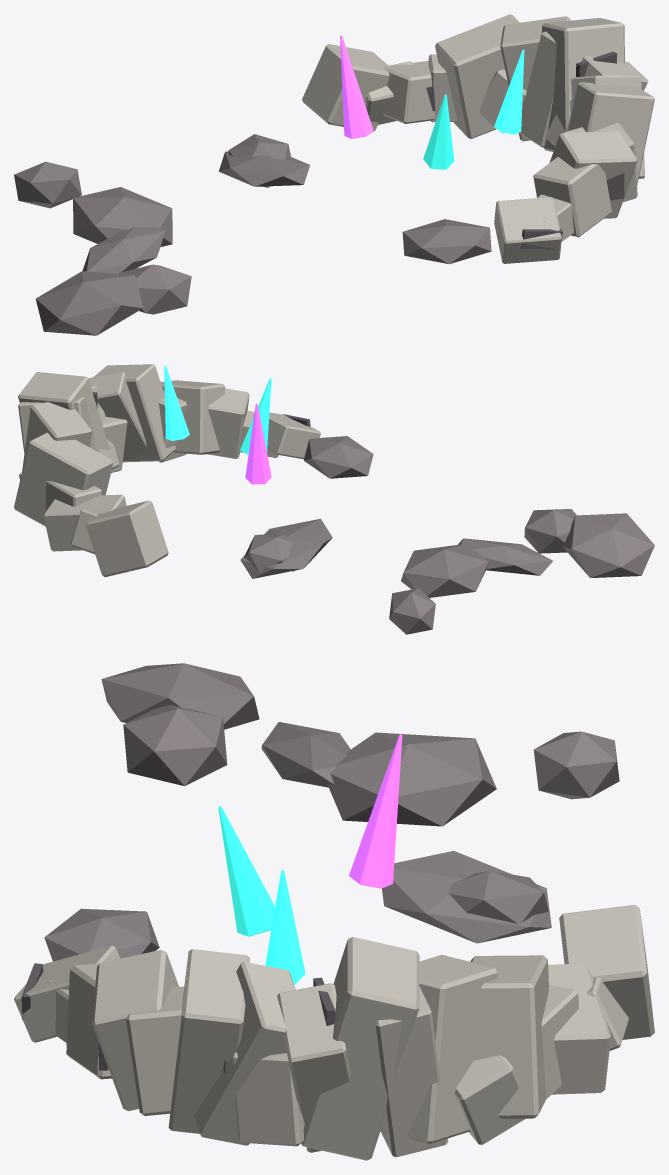
Rendered from runtime.glb.
The picture shows the model from 3 angles, top to bottom: view 1: azimuth 30°, elevation 25°; view 2: azimuth 150°, elevation 25°; view 3: azimuth 270°, elevation 25°; orthographic projection. The views are drawn at different scales.
Visible parts, largest first — view 1: crystal-ruins-rubble-cluster-v06_deposit_05_nocol, crystal-ruins-rubble-cluster-v06_stone_13_nocol, crystal-ruins-rubble-cluster-v06_stone_09_nocol, crystal-ruins-rubble-cluster-v06_deposit_07_nocol, crystal-ruins-rubble-cluster-v06_stone_05_nocol, crystal-ruins-rubble-cluster-v06_stone_17_nocol, crystal-ruins-rubble-cluster-v06_stone_00_nocol, crystal-ruins-rubble-cluster-v06_stone_02_nocol, crystal-ruins-rubble-cluster-v06_stone_03_nocol, crystal-ruins-rubble-cluster-v06_deposit_02_nocol, crystal-ruins-rubble-cluster-v06_stone_10_nocol, crystal-ruins-rubble-cluster-v06_deposit_03_nocol (+16 smaller); view 2: crystal-ruins-rubble-cluster-v06_stone_13_nocol, crystal-ruins-rubble-cluster-v06_deposit_05_nocol, crystal-ruins-rubble-cluster-v06_stone_17_nocol, crystal-ruins-rubble-cluster-v06_deposit_07_nocol, crystal-ruins-rubble-cluster-v06_stone_05_nocol, crystal-ruins-rubble-cluster-v06_stone_03_nocol, crystal-ruins-rubble-cluster-v06_stone_09_nocol, crystal-ruins-rubble-cluster-v06_deposit_02_nocol, crystal-ruins-rubble-cluster-v06_stone_06_nocol, crystal-ruins-rubble-cluster-v06_deposit_01_nocol, crystal-ruins-rubble-cluster-v06_stone_15_nocol, crystal-ruins-rubble-cluster-v06_stone_11_nocol (+14 smaller); view 3: crystal-ruins-rubble-cluster-v06_stone_09_nocol, crystal-ruins-rubble-cluster-v06_deposit_07_nocol, crystal-ruins-rubble-cluster-v06_stone_05_nocol, crystal-ruins-rubble-cluster-v06_stone_13_nocol, crystal-ruins-rubble-cluster-v06_stone_11_nocol, crystal-ruins-rubble-cluster-v06_stone_17_nocol, crystal-ruins-rubble-cluster-v06_deposit_01_nocol, crystal-ruins-rubble-cluster-v06_stone_06_nocol, crystal-ruins-rubble-cluster-v06_stone_03_nocol, crystal-ruins-rubble-cluster-v06_deposit_05_nocol, crystal-ruins-rubble-cluster-v06_deposit_04_nocol, crystal-ruins-rubble-cluster-v06_stone_10_nocol (+16 smaller).
Part boxes in pixels (bbox=[...]): crystal-ruins-rubble-cluster-v06_deposit_05_nocol: bbox=[35, 271, 142, 335]; crystal-ruins-rubble-cluster-v06_stone_13_nocol: bbox=[435, 14, 519, 138]; crystal-ruins-rubble-cluster-v06_stone_09_nocol: bbox=[542, 18, 624, 151]; crystal-ruins-rubble-cluster-v06_deposit_07_nocol: bbox=[73, 187, 172, 246]; crystal-ruins-rubble-cluster-v06_stone_05_nocol: bbox=[568, 82, 654, 185]; crystal-ruins-rubble-cluster-v06_stone_17_nocol: bbox=[302, 44, 389, 131]; crystal-ruins-rubble-cluster-v06_stone_00_nocol: bbox=[494, 197, 561, 263]; crystal-ruins-rubble-cluster-v06_stone_02_nocol: bbox=[533, 157, 611, 237]; crystal-ruins-rubble-cluster-v06_stone_03_nocol: bbox=[549, 131, 637, 218]; crystal-ruins-rubble-cluster-v06_deposit_02_nocol: bbox=[402, 219, 491, 264]; crystal-ruins-rubble-cluster-v06_stone_10_nocol: bbox=[519, 31, 556, 147]; crystal-ruins-rubble-cluster-v06_deposit_03_nocol: bbox=[82, 226, 165, 273]; crystal-ruins-rubble-cluster-v06_stone_13_nocol: bbox=[14, 432, 113, 526]; crystal-ruins-rubble-cluster-v06_deposit_05_nocol: bbox=[562, 513, 654, 577]; crystal-ruins-rubble-cluster-v06_stone_17_nocol: bbox=[85, 500, 168, 577]; crystal-ruins-rubble-cluster-v06_deposit_07_nocol: bbox=[401, 544, 488, 597]; crystal-ruins-rubble-cluster-v06_stone_05_nocol: bbox=[93, 364, 175, 462]; crystal-ruins-rubble-cluster-v06_stone_03_nocol: bbox=[160, 380, 225, 454]; crystal-ruins-rubble-cluster-v06_stone_09_nocol: bbox=[18, 372, 110, 452]; crystal-ruins-rubble-cluster-v06_deposit_02_nocol: bbox=[304, 436, 373, 478]; crystal-ruins-rubble-cluster-v06_stone_06_nocol: bbox=[88, 372, 146, 460]; crystal-ruins-rubble-cluster-v06_deposit_01_nocol: bbox=[240, 518, 332, 578]; crystal-ruins-rubble-cluster-v06_stone_15_nocol: bbox=[43, 494, 126, 551]; crystal-ruins-rubble-cluster-v06_stone_11_nocol: bbox=[22, 402, 91, 471]; crystal-ruins-rubble-cluster-v06_stone_09_nocol: bbox=[301, 937, 419, 1160]; crystal-ruins-rubble-cluster-v06_deposit_07_nocol: bbox=[327, 732, 496, 826]; crystal-ruins-rubble-cluster-v06_stone_05_nocol: bbox=[168, 949, 249, 1133]; crystal-ruins-rubble-cluster-v06_stone_13_nocol: bbox=[470, 955, 548, 1118]; crystal-ruins-rubble-cluster-v06_stone_11_nocol: bbox=[380, 954, 497, 1144]; crystal-ruins-rubble-cluster-v06_stone_17_nocol: bbox=[559, 905, 654, 1039]; crystal-ruins-rubble-cluster-v06_deposit_01_nocol: bbox=[382, 851, 551, 943]; crystal-ruins-rubble-cluster-v06_stone_06_nocol: bbox=[194, 962, 295, 1145]; crystal-ruins-rubble-cluster-v06_stone_03_nocol: bbox=[92, 949, 178, 1111]; crystal-ruins-rubble-cluster-v06_deposit_05_nocol: bbox=[101, 663, 259, 729]; crystal-ruins-rubble-cluster-v06_deposit_04_nocol: bbox=[123, 705, 227, 786]; crystal-ruins-rubble-cluster-v06_stone_10_nocol: bbox=[374, 987, 448, 1157].
Bounding box in the file's own units: 7.53 × 1.84 × 4.36.
